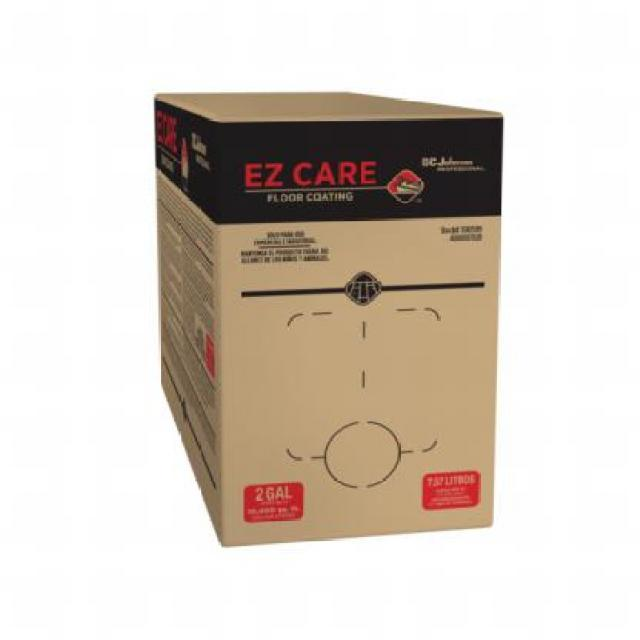box: (148, 81, 502, 549)
